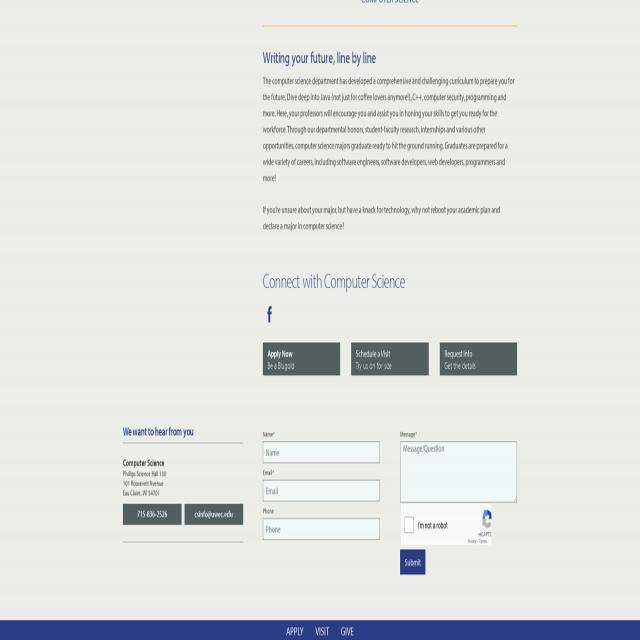button: (351, 342, 429, 376), (439, 342, 517, 376), (263, 342, 340, 376), (123, 504, 182, 525), (184, 504, 243, 525), (400, 550, 426, 574), (263, 302, 276, 326)
field: (400, 442, 517, 503), (262, 442, 380, 463), (262, 480, 380, 501), (262, 519, 380, 540), (405, 516, 414, 533)
